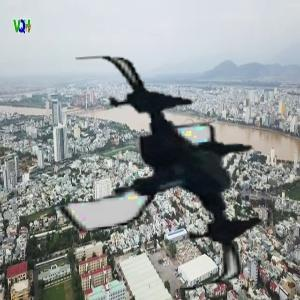drone: (44, 51, 288, 295)
